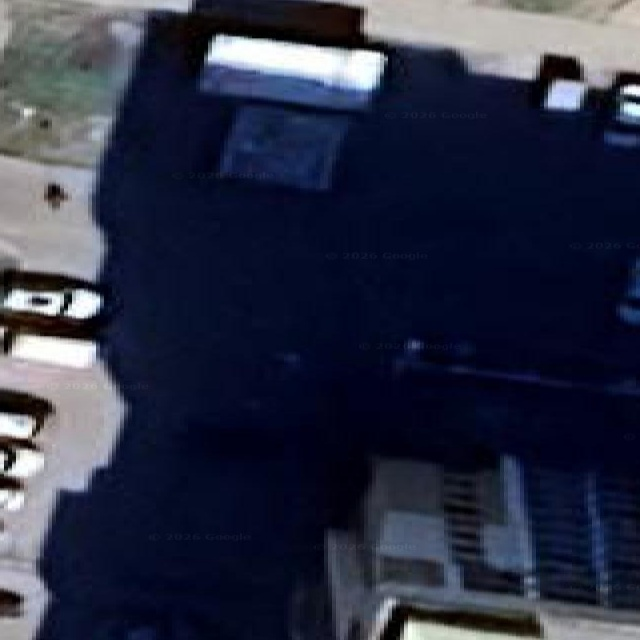car: (0, 270, 108, 367), (0, 270, 104, 325), (0, 318, 97, 368), (530, 54, 587, 111), (602, 72, 639, 147), (0, 390, 53, 439), (0, 438, 44, 479), (617, 258, 640, 326), (0, 476, 24, 511)
